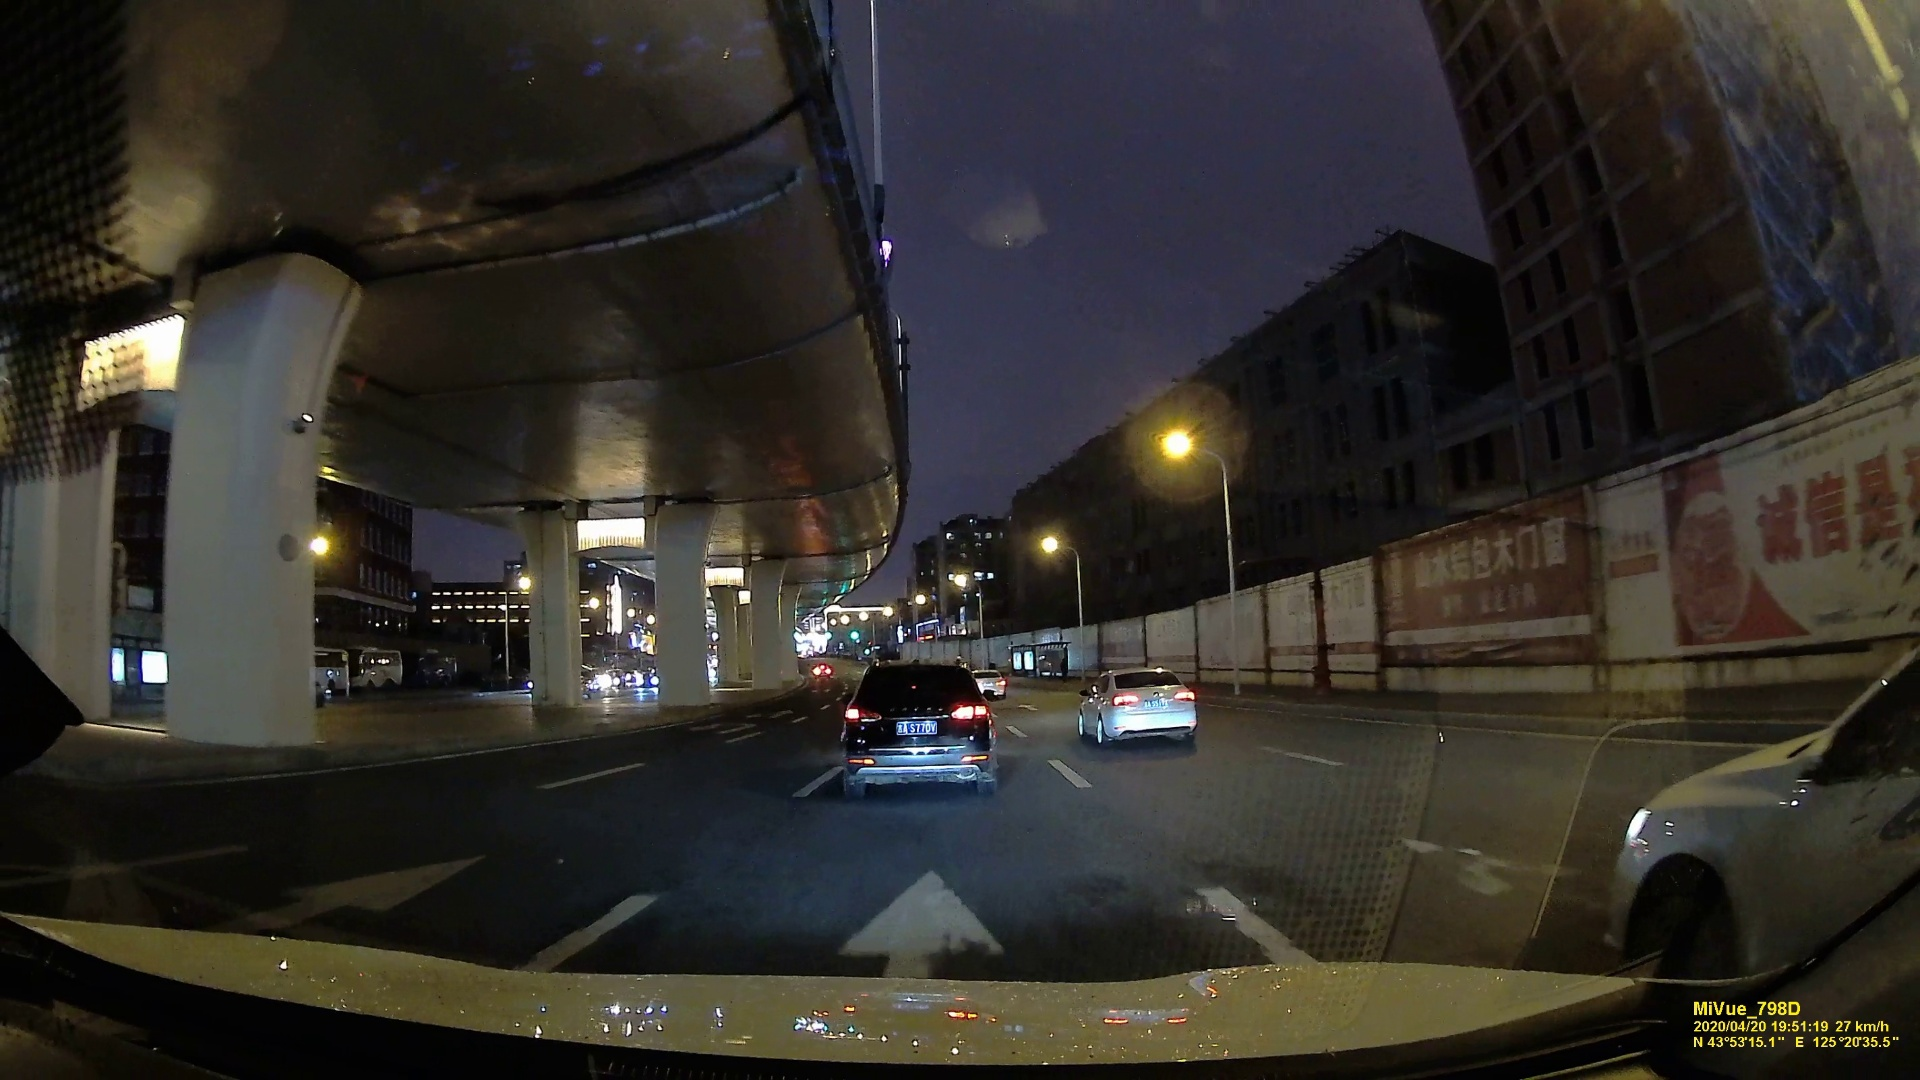vehicle: (1615, 636, 1916, 967), (837, 659, 1001, 802), (1075, 665, 1200, 744), (814, 663, 832, 678)
